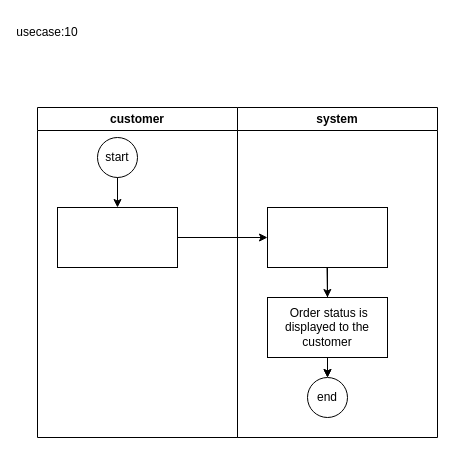
Image size: 455x455. Some labels were removed from this diagram. Here are the shapes that lost their labels. From the top down, the centre of each, then its label:
(117,237): selects Track Order option.
(327,237): . retrieves the current order status
